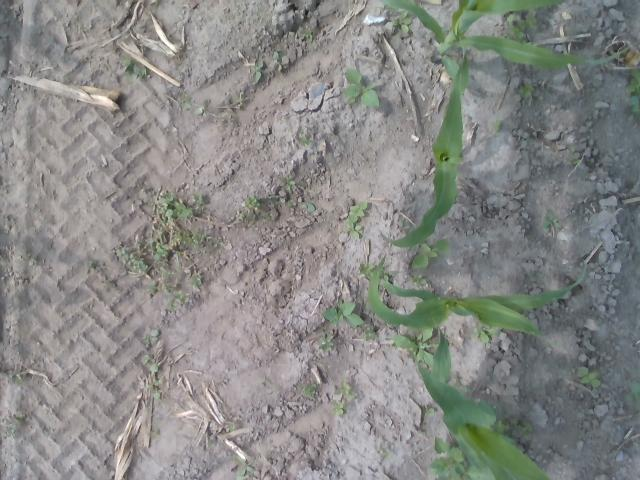Maize: (408, 319, 554, 480), (380, 0, 632, 92), (362, 252, 588, 347), (381, 32, 470, 248)
Weeds: (428, 435, 480, 480), (392, 327, 438, 369), (342, 67, 381, 108), (320, 298, 364, 327), (134, 236, 170, 270), (155, 192, 193, 220), (412, 239, 449, 267), (505, 12, 538, 43), (342, 200, 367, 240), (330, 380, 356, 418), (493, 416, 535, 438), (114, 248, 148, 274), (625, 68, 640, 118), (172, 229, 206, 250), (575, 364, 603, 388), (122, 58, 148, 83), (471, 322, 501, 343), (390, 9, 412, 34), (232, 455, 253, 477), (625, 379, 640, 409), (538, 212, 562, 229), (149, 364, 160, 400), (298, 380, 318, 398), (166, 292, 185, 310), (147, 280, 170, 294), (318, 333, 334, 352), (517, 82, 536, 98), (251, 60, 263, 84), (243, 194, 262, 209), (279, 174, 295, 190), (409, 274, 427, 288), (377, 268, 395, 282), (363, 326, 379, 341), (377, 444, 392, 460), (298, 131, 312, 148), (300, 28, 314, 44), (359, 262, 375, 275), (142, 329, 158, 342), (193, 193, 204, 211), (194, 100, 208, 114), (9, 371, 22, 385), (188, 276, 203, 288), (300, 202, 316, 213), (182, 93, 192, 110), (267, 194, 280, 206), (271, 50, 283, 63), (491, 118, 502, 132), (422, 406, 435, 416), (28, 254, 38, 266), (532, 271, 546, 279), (462, 385, 473, 395), (16, 414, 27, 424), (570, 156, 581, 166), (162, 269, 174, 278), (237, 91, 244, 106), (264, 212, 272, 220), (150, 430, 160, 436), (2, 419, 14, 424), (228, 424, 236, 431)
